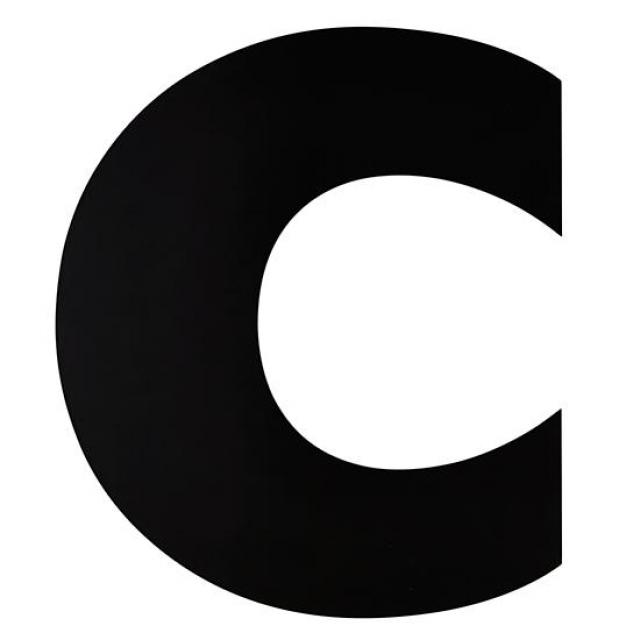C: (34, 10, 610, 629)
